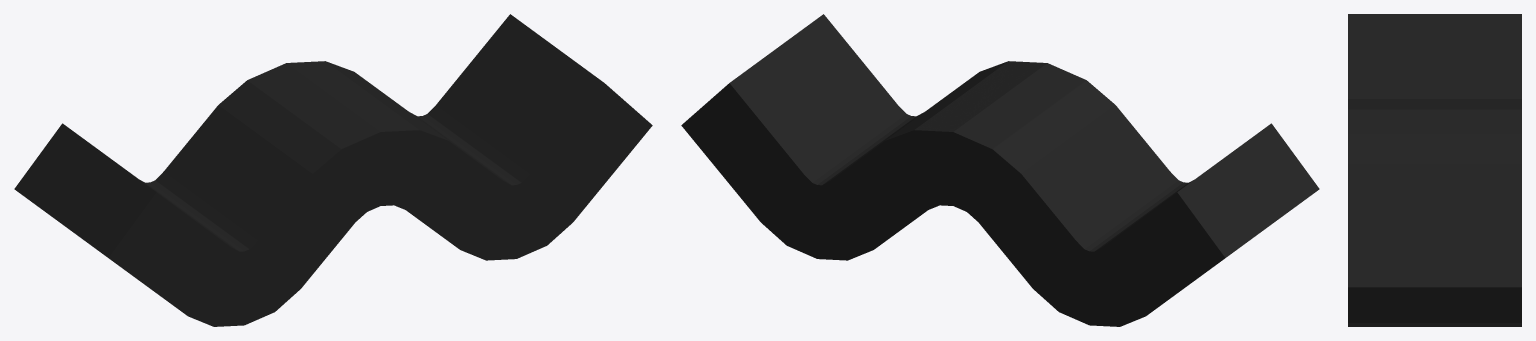
File: wavy_dash.glb
3 views of the same model, side by side, from view 1: azimuth 30°, elevation 25°; view 2: azimuth 150°, elevation 25°; view 3: azimuth 270°, elevation 25° (orthographic). The views are drawn at different scales.
Parts seen in each view (by area): view 1: Plane.151; view 2: Plane.151; view 3: Plane.151.
Part boxes in pixels (bbox=[...]): Plane.151: bbox=[14, 14, 652, 326]; Plane.151: bbox=[681, 14, 1319, 326]; Plane.151: bbox=[1348, 14, 1521, 326].
Bounding box in the file's own units: 2 × 0.5625 × 0.6.
Materials: 1 (1 with a texture image).
